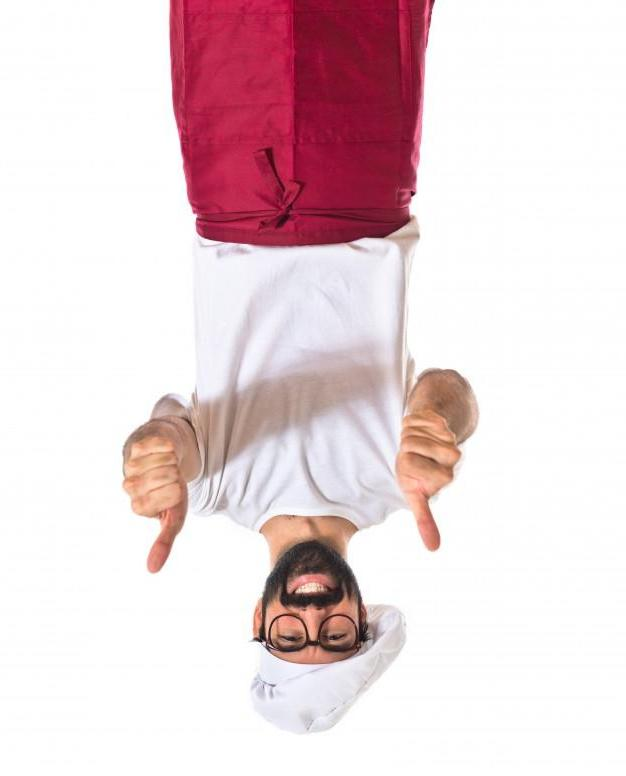thumbsdown: (398, 409, 462, 552), (123, 436, 187, 573)
